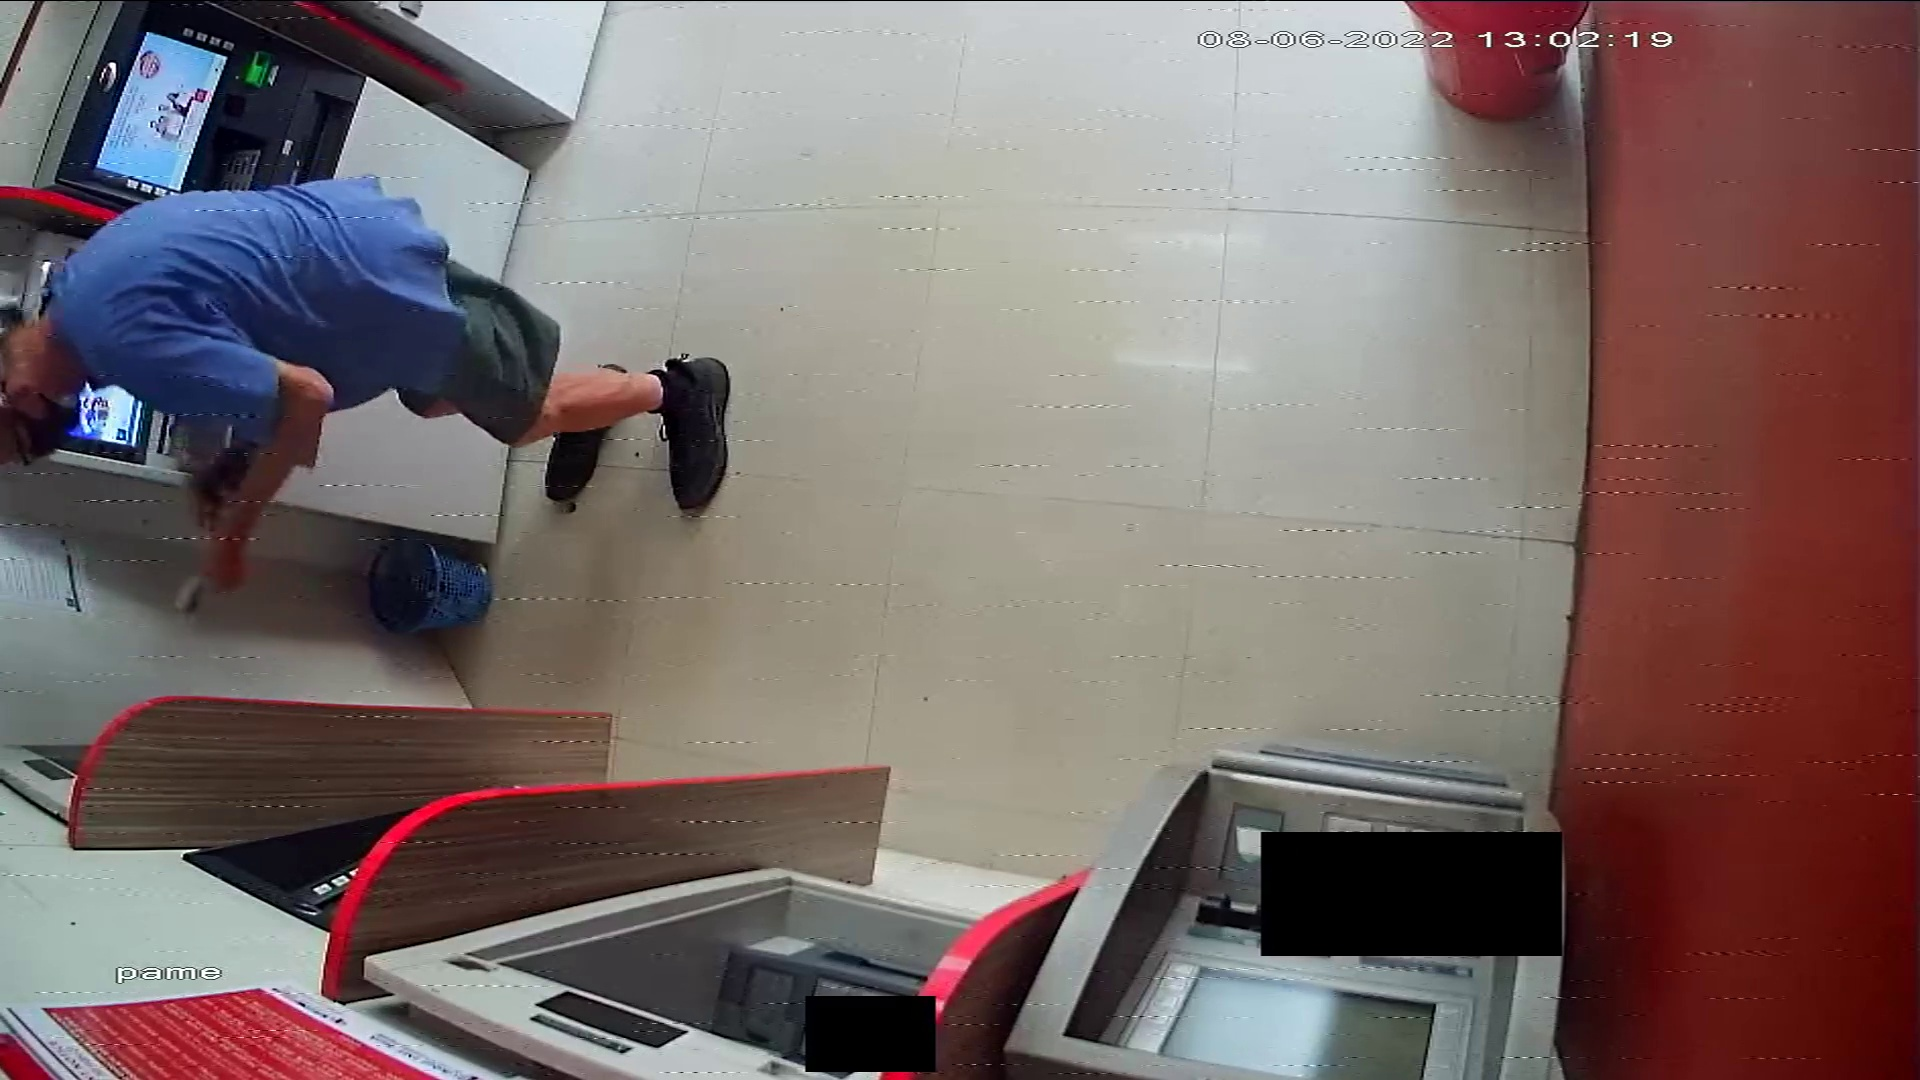person: (1, 175, 733, 583)
